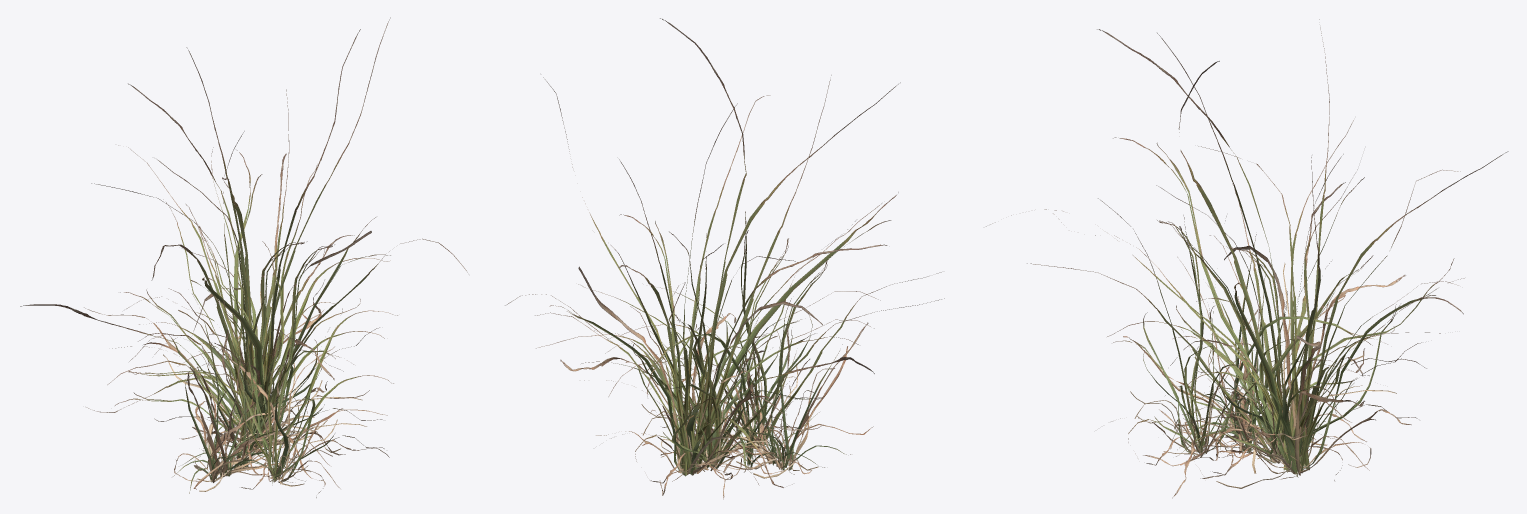
The model's file is grass_medium_02.fbx.
3 renders of one model, left to right at view 1: azimuth 30°, elevation 25°; view 2: azimuth 150°, elevation 25°; view 3: azimuth 270°, elevation 25°, orthographic. The views are drawn at different scales.
Visible parts, largest first — view 1: grass_medium_02_e, grass_medium_02_d, grass_medium_02_c, grass_medium_02_b, grass_medium_02_a; view 2: grass_medium_02_e, grass_medium_02_d, grass_medium_02_b, grass_medium_02_c, grass_medium_02_a; view 3: grass_medium_02_e, grass_medium_02_d, grass_medium_02_c, grass_medium_02_b, grass_medium_02_a.
Boxes of the visible parts, box(x1,y1,x2,y2) form: grass_medium_02_e: box(20, 17, 467, 465); grass_medium_02_d: box(107, 147, 390, 486); grass_medium_02_c: box(185, 241, 397, 497); grass_medium_02_b: box(173, 294, 342, 493); grass_medium_02_a: box(183, 326, 305, 481); grass_medium_02_e: box(505, 18, 900, 495); grass_medium_02_d: box(536, 221, 944, 499); grass_medium_02_b: box(672, 298, 873, 481); grass_medium_02_c: box(607, 211, 941, 445); grass_medium_02_a: box(662, 317, 795, 474); grass_medium_02_e: box(986, 19, 1508, 477); grass_medium_02_d: box(1027, 177, 1454, 488); grass_medium_02_c: box(1098, 198, 1387, 498); grass_medium_02_b: box(1123, 234, 1366, 473); grass_medium_02_a: box(1176, 275, 1307, 456).
Size of the model in its own units: 0.3556 by 0.4032 by 0.4332.
1 material, 1 textured.
